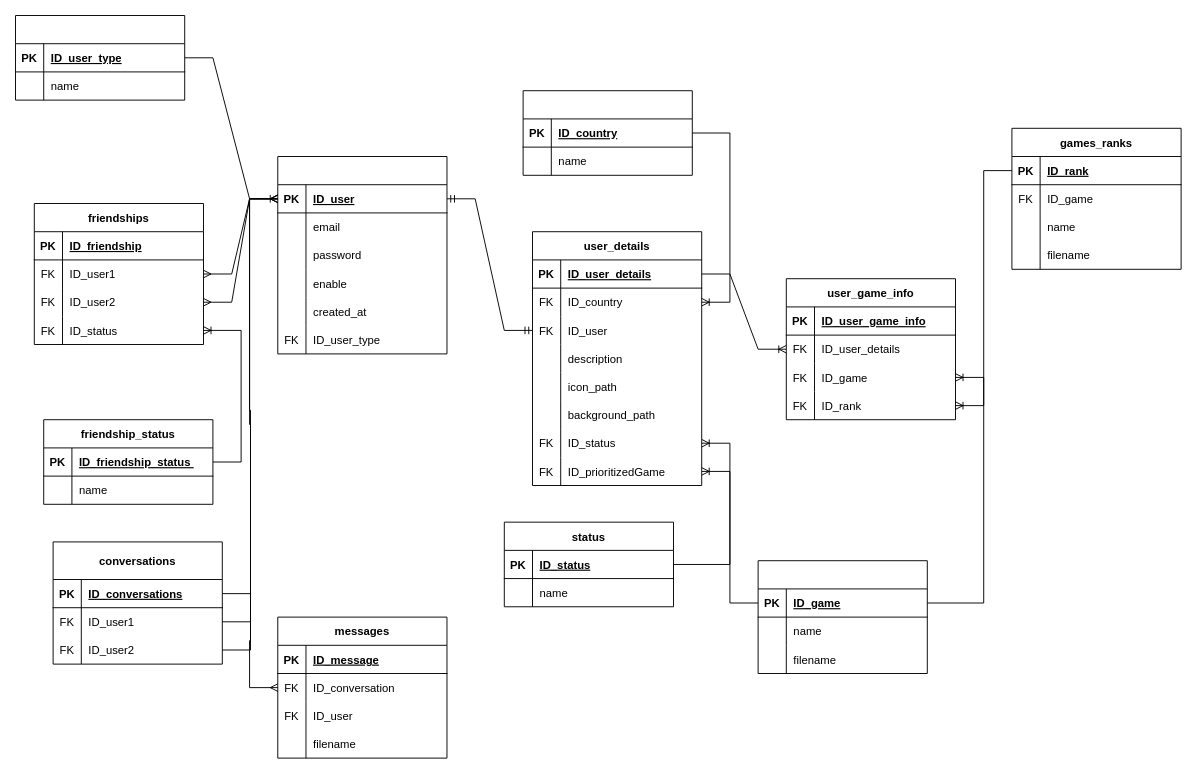
The diagram is 1197 pixels wide and 774 high, and some of its shapes have lost their labels. The shapes that lost their labels are listed below. From the top down, each one's box as (x1, y1, x2, y2) in pixels, then its label:
(15, 15, 185, 100): user_types
(522, 90, 692, 175): countries
(277, 156, 447, 354): users
(757, 560, 927, 674): games
